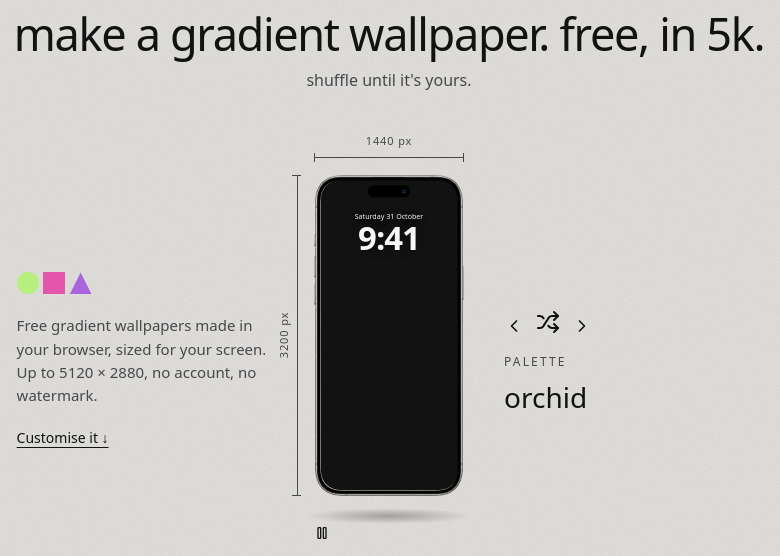
Hero › shows a pack piece on every fifth shuffle, with a link to its pack
The image size is (780, 556).
Click the button named "shuffle: generate another wallpaper" at (548, 326), box 536,310 -> 560,341
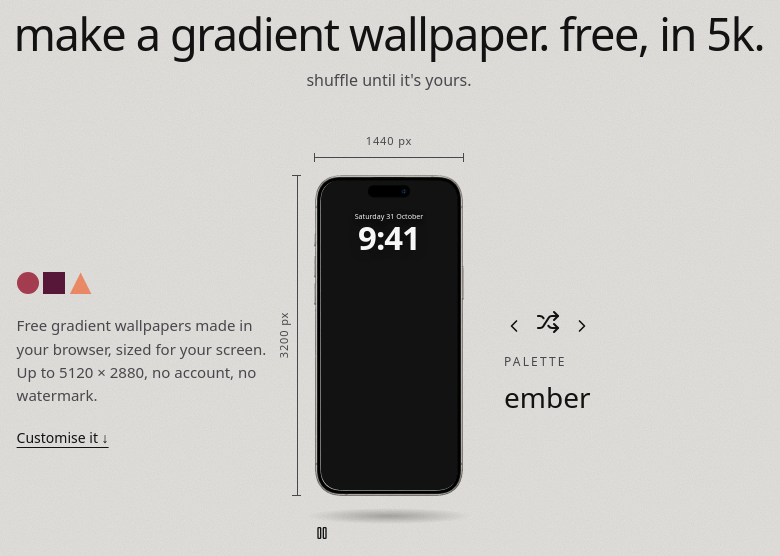
Click the button named "shuffle: generate another wallpaper" at (548, 326), box 536,310 -> 560,341
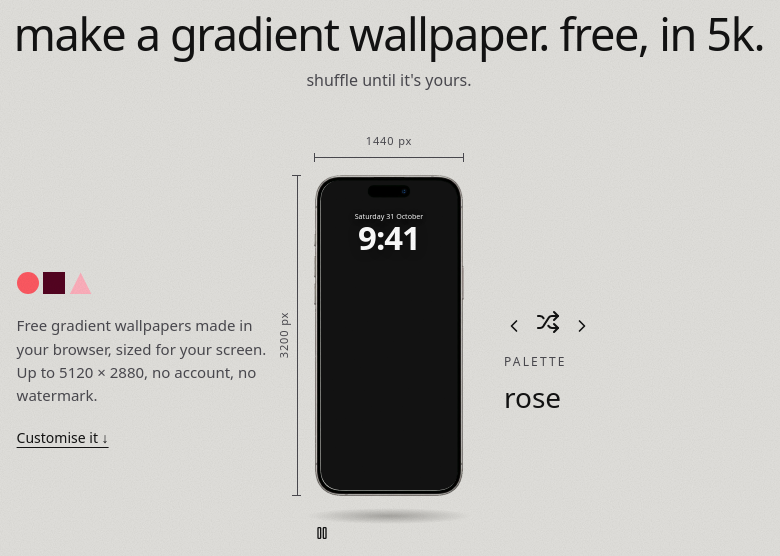
Click the button named "shuffle: generate another wallpaper" at (548, 326), box 536,310 -> 560,341
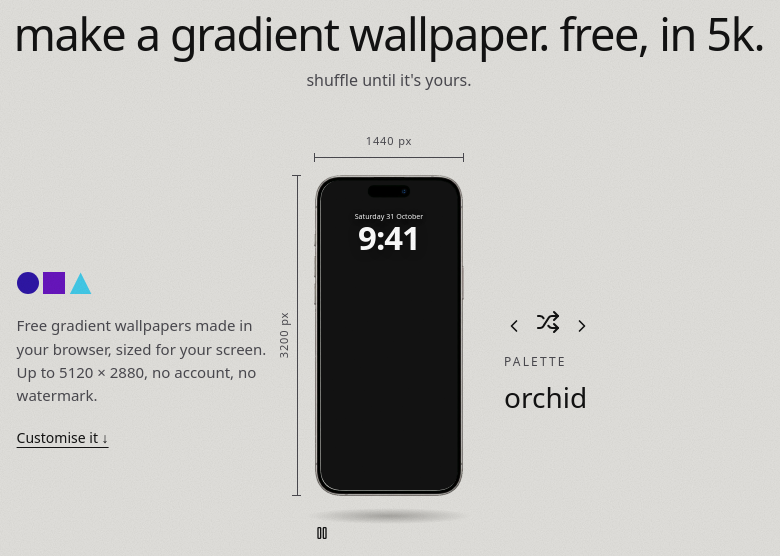
Click the button named "shuffle: generate another wallpaper" at (548, 326), box 536,310 -> 560,341
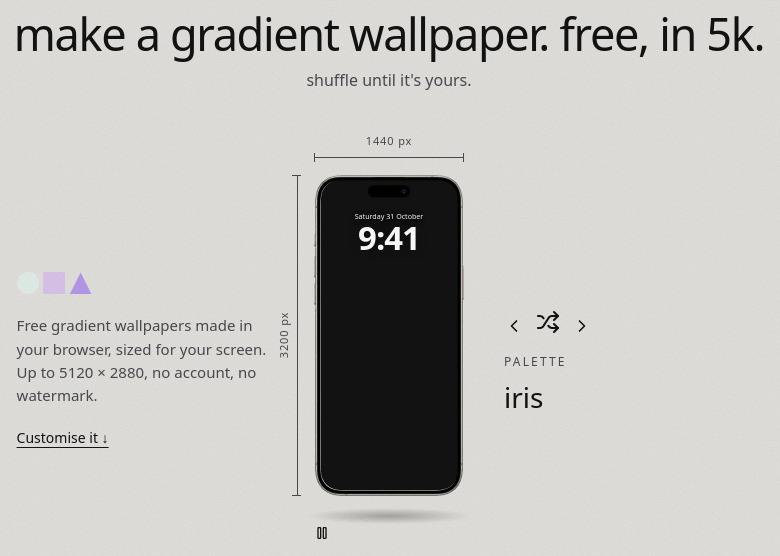
Click the button named "shuffle: generate another wallpaper" at (548, 326), box 536,310 -> 560,341
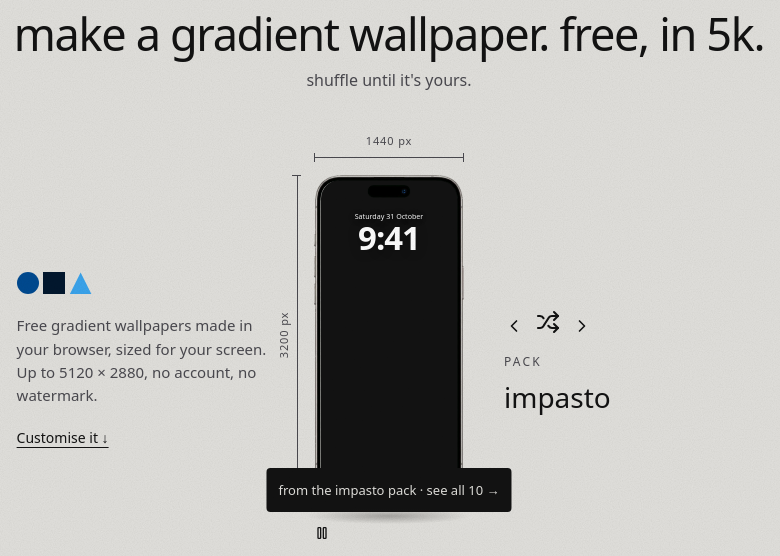
Result: the link "from the impasto pack · see all 10 →" is shown at 266,468 -> 512,512
Click the button named "shuffle: generate another wallpaper" at (548, 326), box 536,310 -> 560,341
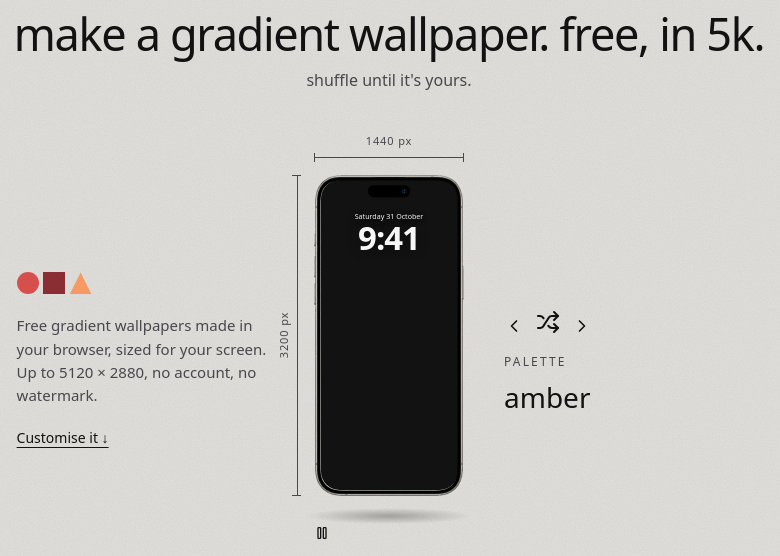
Result: the link "from the impasto pack · see all 10 →" is gone
